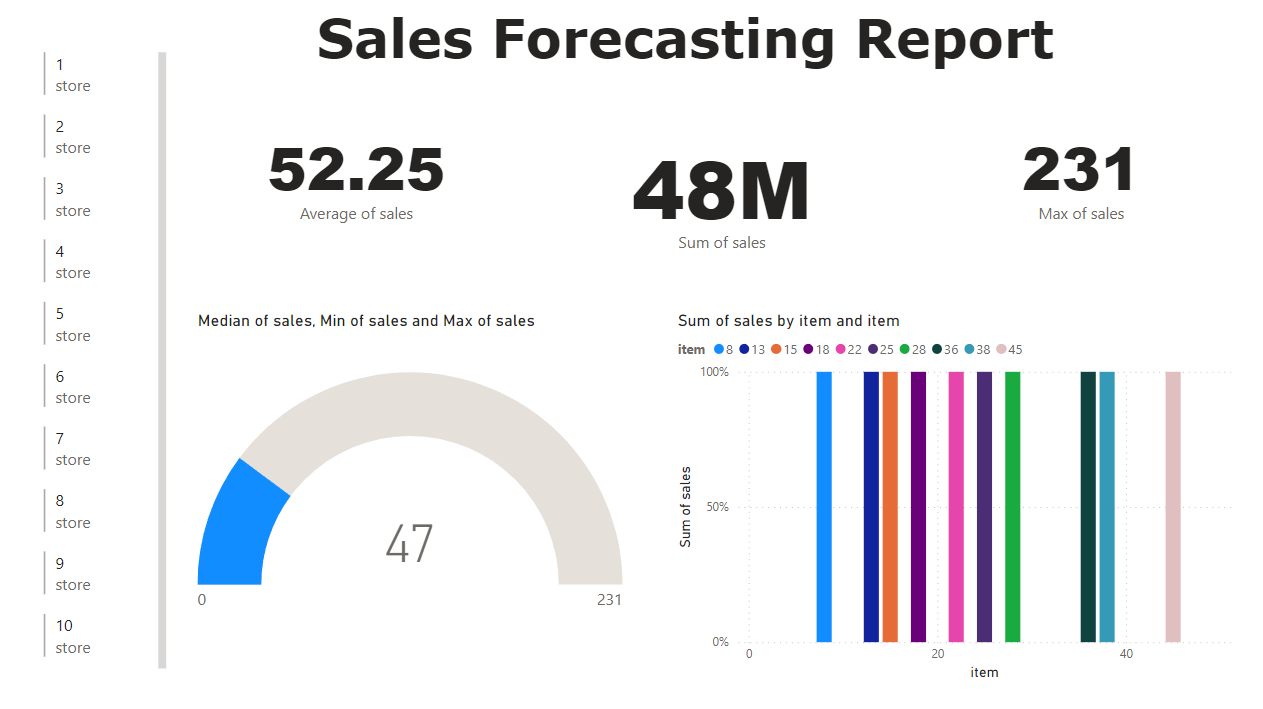

What the dashboard file says about the page in this screenshot:
{"tool":"powerbi","page":{"name":"Page 2","canvas":[1280,720],"ordinal":1},"visuals":[{"type":"multiRowCard","fields":{"Values":["train.store"]},"box":[40,48,134,646],"z":0},{"type":"hundredPercentStackedColumnChart","fields":{"Category":["train.item"],"Y":["Sum(train.sales)"],"Series":["train.item"]},"box":[682,314,570,380],"z":1000},{"type":"gauge","fields":{"Y":["Median(train.sales)"],"MinValue":["Min(train.sales)"],"MaxValue":["Max(train.sales)1"]},"box":[196,314,440,354],"z":2000},{"type":"card","fields":{"Values":["Avg(train.sales)"]},"box":[228,78,268,198],"z":3000},{"type":"card","fields":{"Values":["Sum(train.sales)"]},"box":[572,78,320,236],"z":4000},{"type":"card","fields":{"Values":["Max(train.sales)"]},"box":[962,78,268,198],"z":5000},{"type":"textbox","box":[316,0,780,78],"z":6000}]}

Visuals, with their boxes in screenshot pixels (x1, y1, x2, y2), scaled from the page's 1280x720 canvas onto the 1263x709 screenshot:
multiRowCard - train.store: 39:47:172:683
hundredPercentStackedColumnChart - train.item x Sum(train.sales): 673:309:1235:683
gauge - Median(train.sales) x Min(train.sales): 193:309:628:658
card - Avg(train.sales): 225:77:489:272
card - Sum(train.sales): 564:77:880:309
card - Max(train.sales): 949:77:1214:272
textbox: 312:0:1081:77
